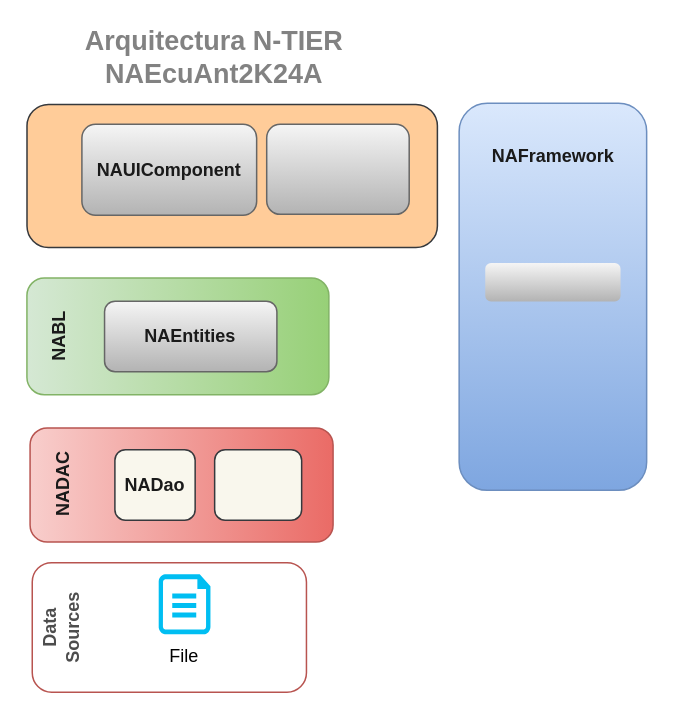
Some shapes in this 674 by 719 pixel diagram are drawn without their labels. The box of each missing label's shape, as (x1, y1, x2, y2) in pixels:
NADto: (213, 448, 302, 520)
NAException: (484, 262, 620, 301)
NAGUI: (26, 103, 437, 248)
NAResource: (265, 123, 409, 214)
